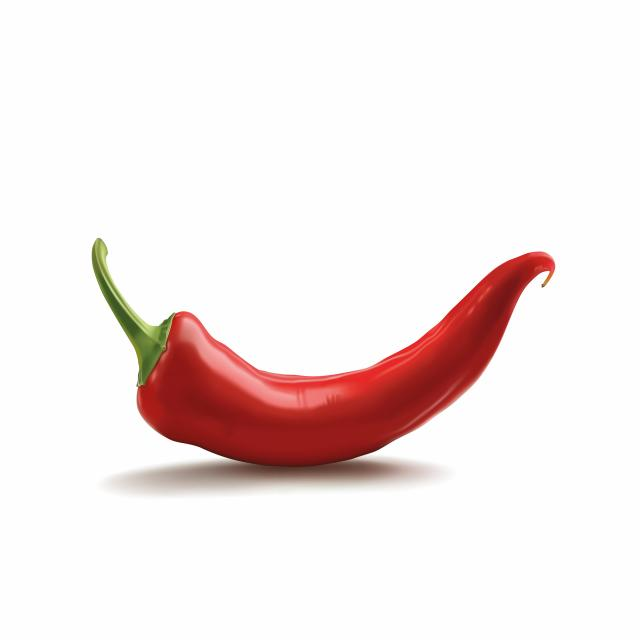chilli: (106, 248, 560, 470)
